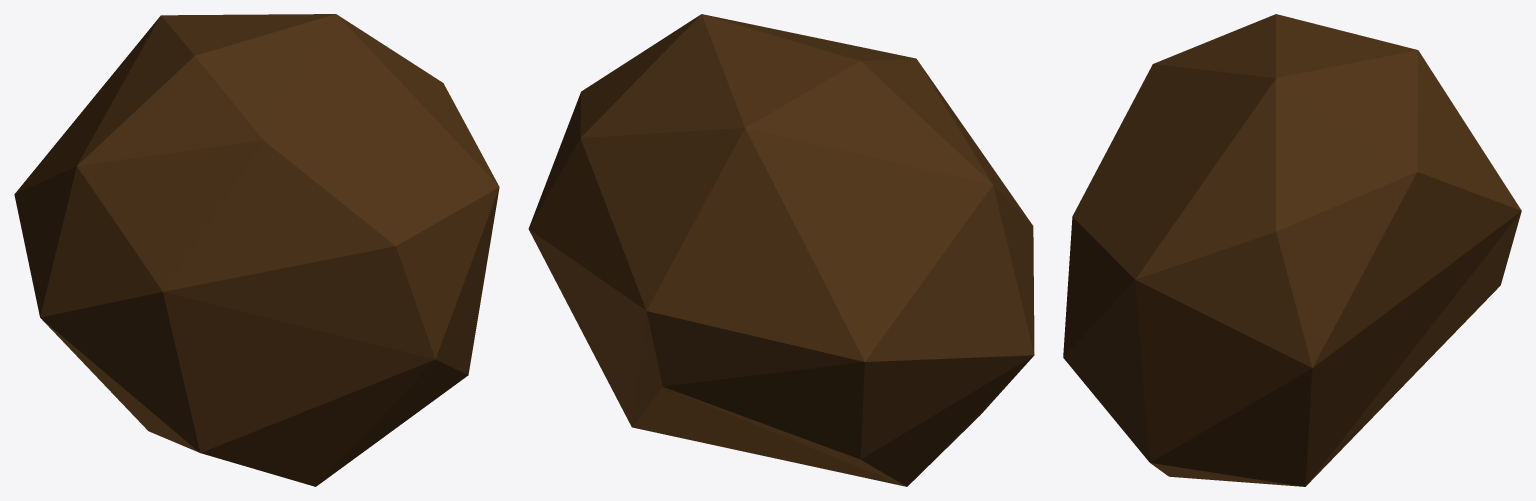
Rendered from asteroid5.fbx.
3 renders of one model, left to right at view 1: azimuth 30°, elevation 25°; view 2: azimuth 150°, elevation 25°; view 3: azimuth 270°, elevation 25°, orthographic. The views are drawn at different scales.
Parts seen in each view (by area): view 1: quickmaterial1; view 2: quickmaterial1; view 3: quickmaterial1.
Part boxes in pixels (x1,y1,x2,y2): quickmaterial1: [14, 14, 499, 486]; quickmaterial1: [528, 14, 1034, 486]; quickmaterial1: [1063, 14, 1521, 486].
Bounding box in the file's own units: 2.36 × 2.18 × 2.08.
